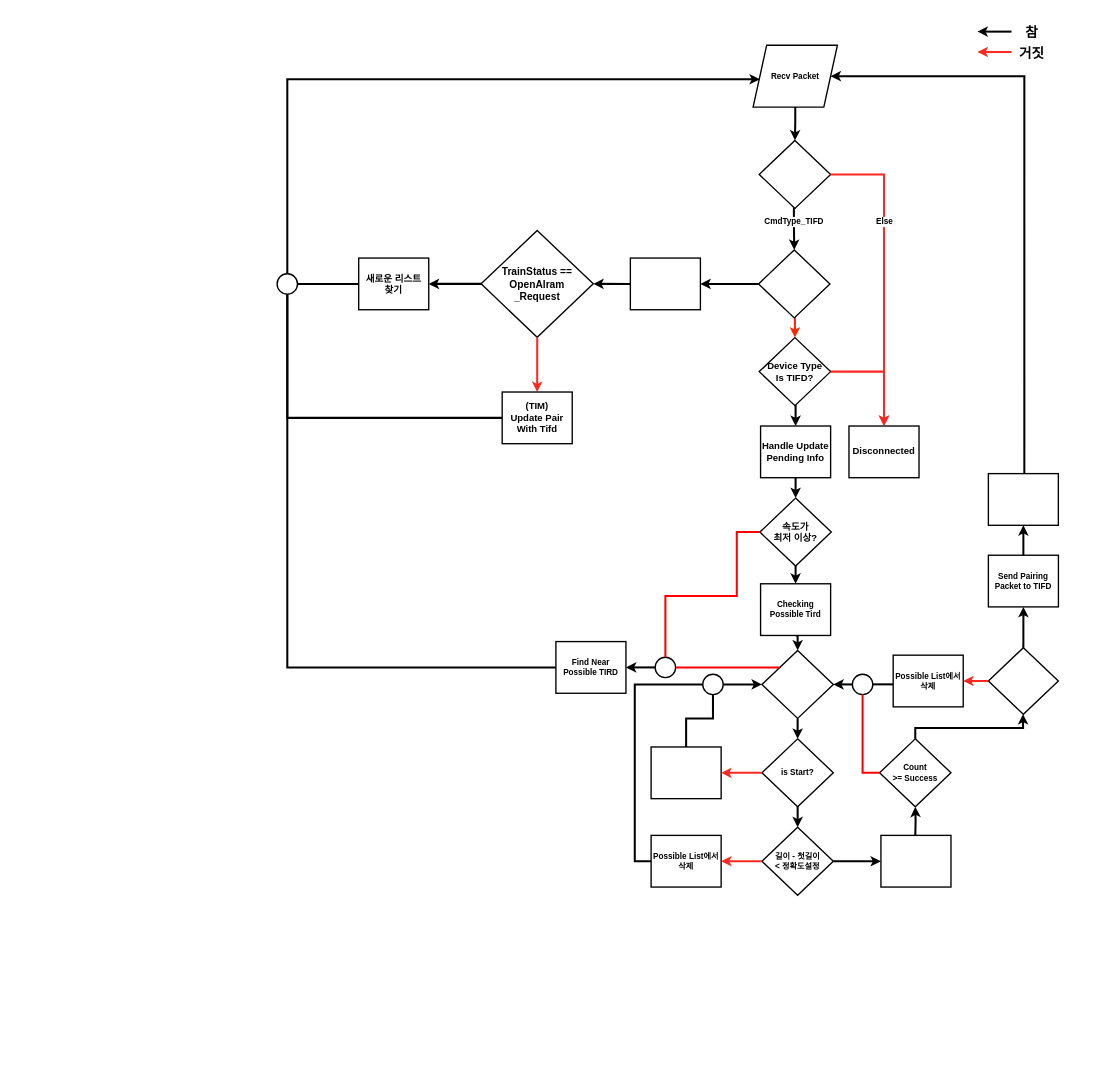
Image size: 1098x1077. Some labels were removed from this diagram. Here are the shapes that lost their labels. From the top down, the centre of each, then its label:
At point (794, 174): "Cmd_Type CHeck".
At point (665, 283): "Handle Pairing Info".
At point (794, 283): "Is Pair?".
At point (1023, 499): "Send LORA_CH Packet to TIFD, TIRD".
At point (797, 684): "Possible List 순회(for)".
At point (1023, 681): "(TIM) Push Pairing List".
At point (685, 772): "첫 길이 저장 및 isStart = true".
At point (915, 860): "Count +1".
